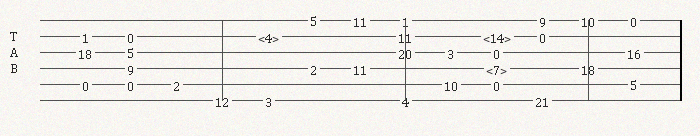0: (82, 78, 93, 91), (127, 78, 138, 91), (127, 30, 138, 43), (493, 78, 504, 91), (493, 46, 504, 59), (539, 30, 550, 43), (630, 14, 641, 27)
1: (82, 30, 93, 43), (402, 14, 413, 27)
10: (444, 78, 462, 91), (581, 14, 599, 27)
11: (353, 62, 371, 75), (353, 14, 371, 27), (398, 30, 416, 43)
12: (215, 94, 233, 107)
16: (627, 46, 645, 59)
18: (78, 46, 96, 59), (581, 62, 599, 75)
2: (173, 78, 184, 91), (310, 62, 321, 75)
20: (398, 46, 416, 59)
21: (535, 94, 553, 107)
3: (265, 94, 276, 107), (447, 46, 458, 59)
4: (402, 94, 413, 107)
5: (127, 45, 138, 59), (310, 13, 321, 27), (630, 77, 641, 91)
9: (127, 62, 138, 75), (539, 14, 550, 27)
harmonic: (483, 30, 515, 43), (258, 30, 283, 43), (486, 62, 511, 75)
